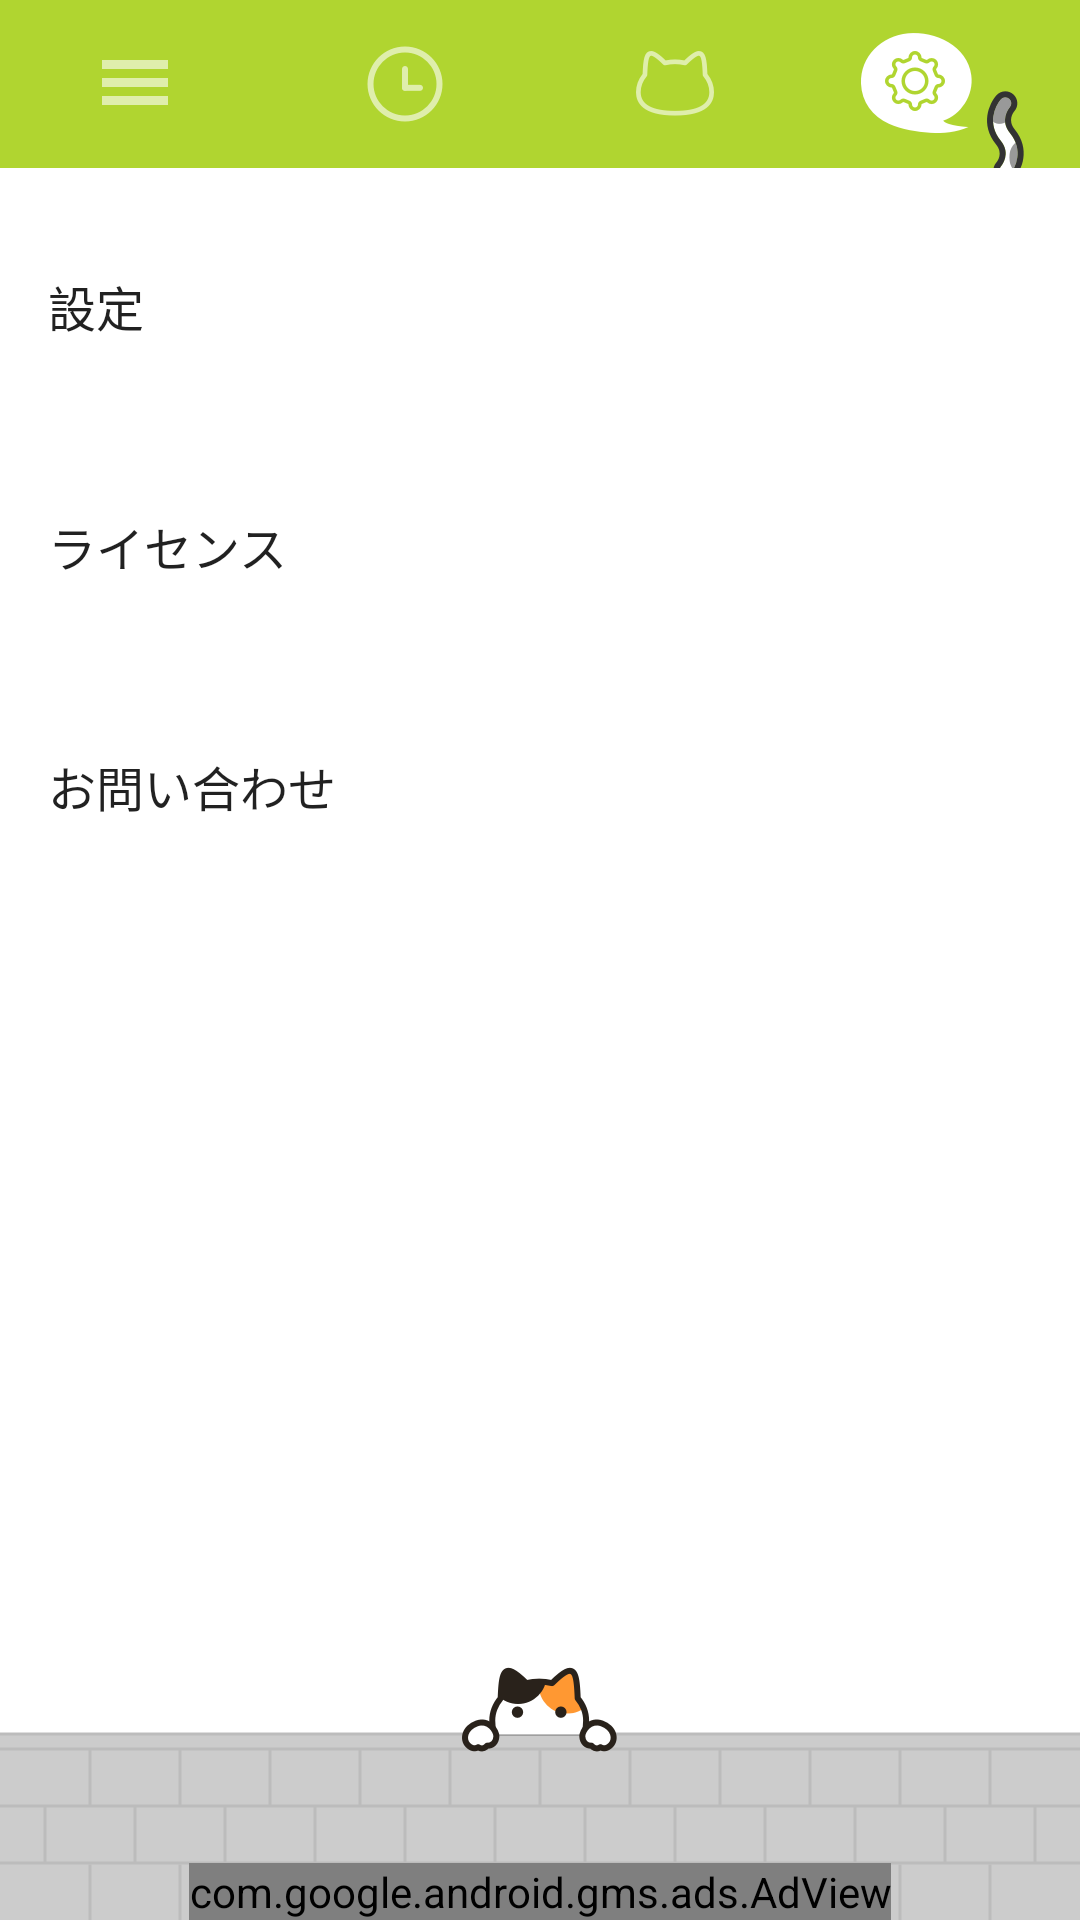

Point at icon controls on the screen. Image size 1080px×1920px, points as (x,y).
cat list: (675,93)
time set: (405,93)
